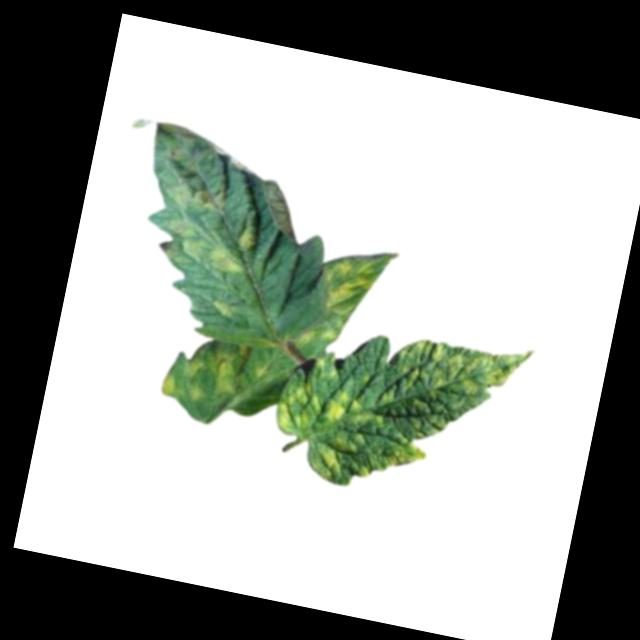Leaf_Mold: (265, 302, 534, 513), (150, 171, 266, 279), (308, 236, 397, 350), (160, 331, 252, 416), (208, 294, 238, 323)
